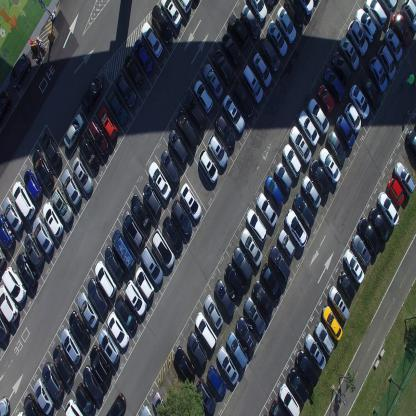car: (111, 229, 136, 271), (30, 149, 54, 191), (11, 181, 36, 221), (1, 266, 27, 304), (147, 160, 171, 201), (140, 245, 163, 287), (306, 96, 330, 136), (151, 229, 175, 269), (8, 51, 32, 91), (240, 63, 263, 104), (114, 294, 138, 333), (284, 208, 308, 247), (357, 217, 381, 256), (289, 125, 312, 165), (41, 361, 64, 401), (15, 251, 38, 291), (49, 186, 73, 224), (244, 295, 266, 336), (121, 211, 144, 250), (59, 327, 82, 366), (80, 75, 104, 112), (53, 344, 74, 386), (260, 261, 282, 301), (31, 217, 53, 257), (194, 311, 216, 351), (217, 345, 239, 385), (296, 348, 318, 388), (82, 363, 104, 403), (180, 181, 202, 221), (222, 93, 244, 133), (151, 3, 173, 43), (94, 260, 117, 298), (68, 310, 91, 348), (173, 346, 196, 384), (226, 330, 247, 371), (240, 228, 262, 267), (38, 133, 60, 172), (107, 311, 130, 348), (297, 109, 320, 146), (130, 193, 151, 233), (32, 375, 53, 415), (276, 5, 297, 45), (252, 279, 274, 317), (71, 156, 93, 194), (292, 192, 314, 230), (194, 377, 216, 415), (328, 284, 350, 322), (309, 158, 331, 196), (319, 146, 341, 184), (2, 196, 24, 234), (63, 112, 85, 150), (87, 118, 109, 156), (175, 110, 197, 148), (232, 80, 254, 118), (354, 7, 377, 43), (90, 343, 110, 384), (185, 92, 206, 131), (125, 279, 147, 316), (269, 244, 291, 281), (78, 135, 100, 172), (77, 292, 99, 329), (235, 316, 257, 353), (304, 333, 326, 370), (321, 304, 343, 341), (266, 20, 288, 57), (227, 12, 249, 49), (141, 21, 163, 58), (114, 70, 136, 107), (376, 191, 399, 226), (214, 279, 235, 317), (232, 246, 253, 284), (61, 168, 82, 206), (161, 214, 182, 252), (41, 202, 63, 238), (98, 328, 120, 364), (256, 192, 278, 228), (324, 66, 346, 102), (286, 368, 308, 404), (343, 248, 365, 284), (212, 48, 234, 84), (104, 245, 125, 282), (87, 278, 108, 315), (349, 84, 370, 121), (171, 198, 192, 235), (394, 161, 416, 196), (187, 330, 207, 368), (348, 18, 368, 56), (107, 88, 127, 126), (224, 264, 245, 300), (369, 206, 390, 242), (167, 128, 188, 164), (202, 63, 223, 99), (251, 52, 272, 88), (240, 3, 261, 39), (98, 106, 119, 142), (363, 0, 388, 30), (203, 294, 223, 331), (335, 113, 355, 150), (246, 208, 267, 243), (369, 54, 388, 92), (0, 284, 19, 322), (282, 142, 302, 178), (314, 320, 334, 356), (301, 174, 321, 210), (326, 130, 346, 166), (362, 74, 382, 110), (340, 34, 360, 70), (24, 233, 44, 269), (160, 150, 180, 186), (221, 32, 241, 68), (133, 38, 153, 74), (193, 79, 214, 113), (198, 148, 219, 182), (215, 114, 236, 148), (278, 383, 300, 415), (377, 43, 396, 80), (391, 11, 411, 46), (208, 134, 228, 169), (22, 169, 42, 203), (264, 175, 284, 209), (351, 233, 371, 267), (76, 381, 96, 415), (142, 181, 162, 215), (283, 0, 306, 29), (124, 52, 142, 89), (331, 50, 351, 83), (207, 364, 226, 398), (160, 0, 182, 29), (261, 38, 280, 71), (136, 266, 154, 300), (384, 28, 402, 62), (274, 161, 292, 194), (316, 84, 334, 116), (337, 270, 355, 302), (344, 100, 362, 132), (0, 213, 16, 249), (278, 228, 296, 258), (152, 389, 172, 415), (400, 0, 416, 32), (387, 177, 404, 207), (246, 0, 268, 23), (105, 392, 126, 415), (22, 392, 43, 415), (404, 128, 416, 160), (0, 90, 11, 124), (64, 397, 84, 415), (270, 397, 288, 415), (0, 312, 10, 342), (377, 0, 398, 14), (173, 0, 192, 15), (0, 394, 11, 416), (298, 0, 314, 15), (140, 404, 152, 415), (0, 247, 6, 268)
